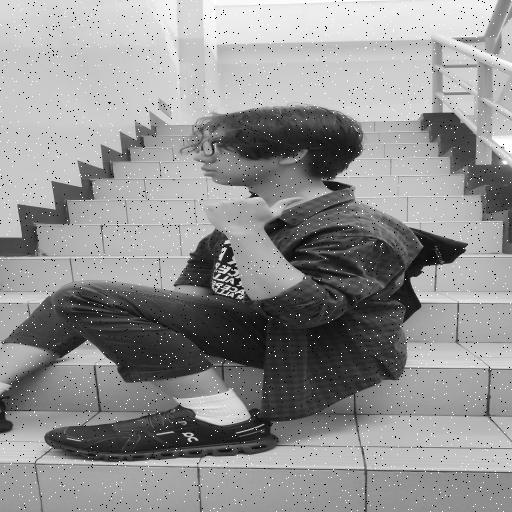back: (179, 185, 320, 243)
